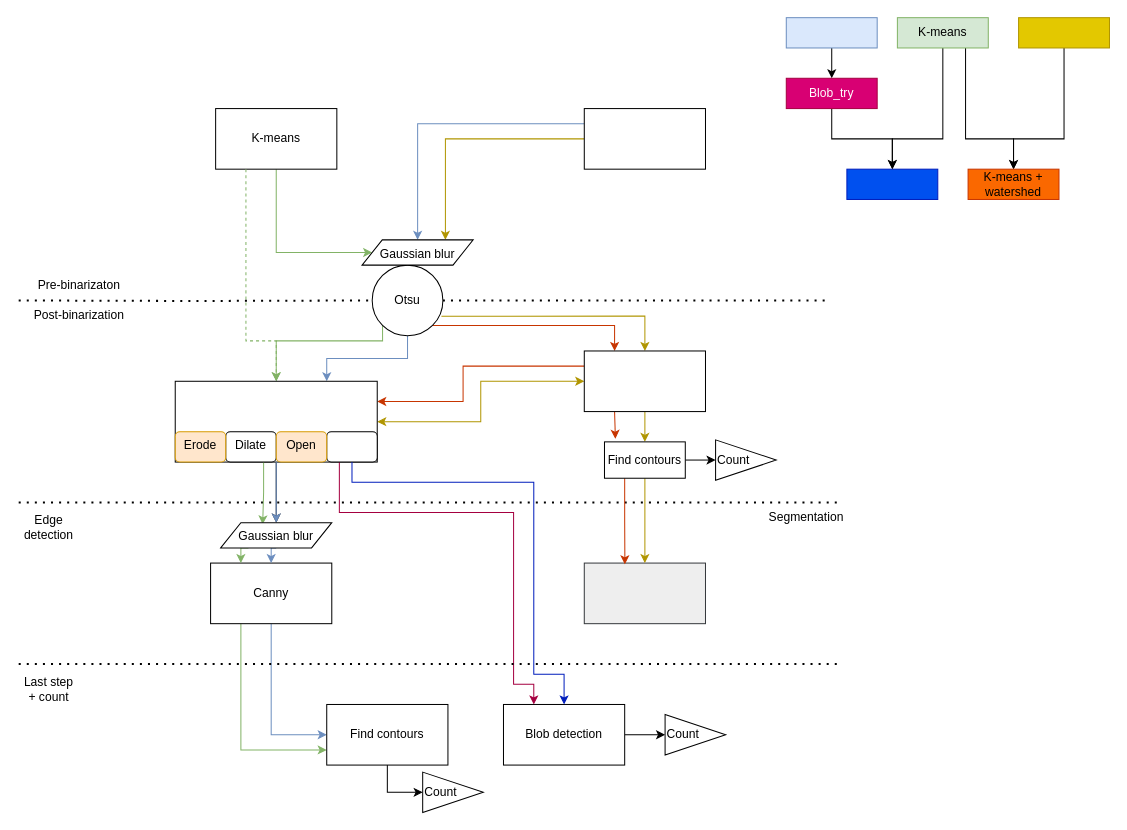
This 1127x830 diagram has some shape labels left out. Each missing label, with the box of its shape:
Close: (326, 431, 377, 462)
Distance transform: (583, 350, 705, 412)
K-means + blob: (846, 168, 938, 199)
morphological transform: (174, 380, 377, 462)
Nothing: (583, 108, 705, 169)
Trivial / base: (785, 17, 877, 48)
Watershed: (583, 562, 705, 624)
watershed only: (1018, 17, 1109, 48)
